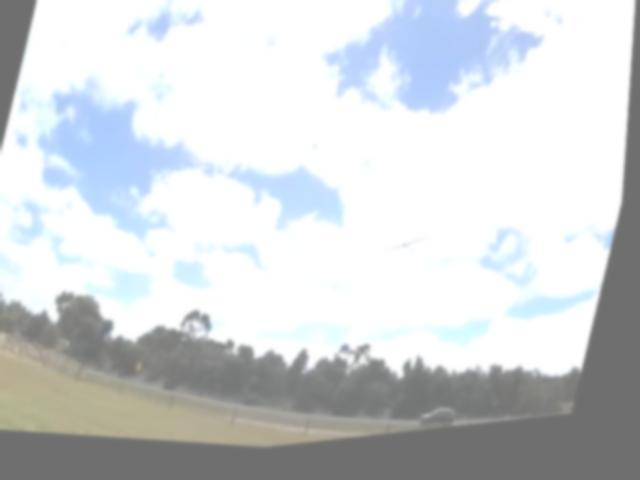uav: (380, 225, 445, 282)
